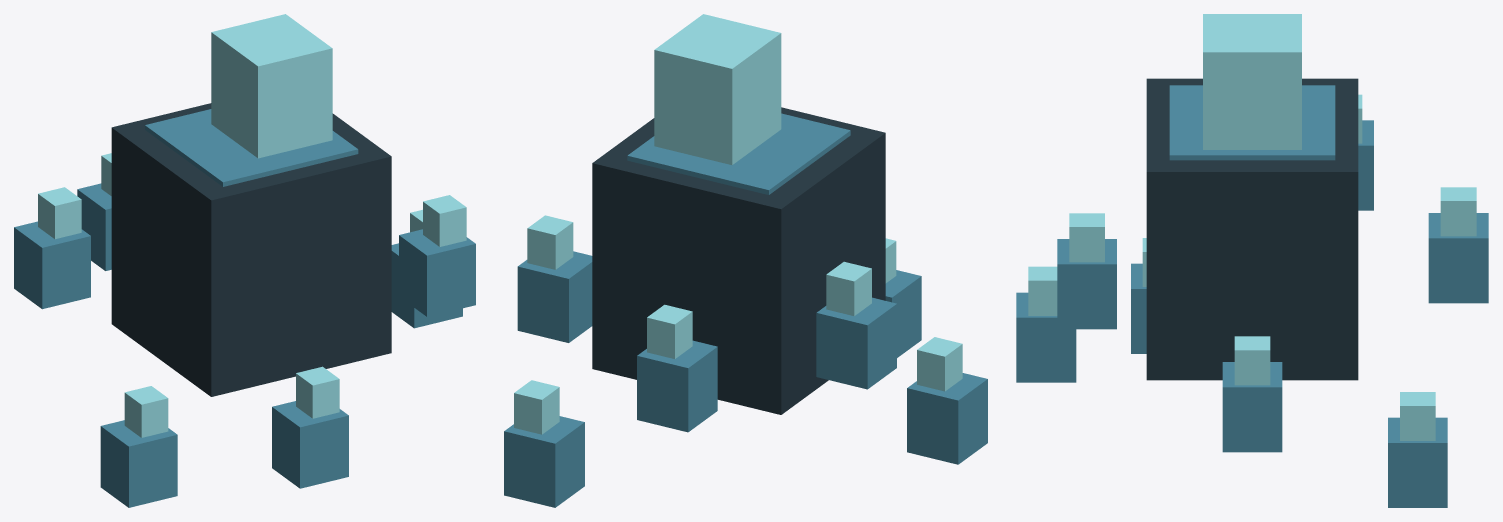
Rendered from shard-sprite.glb.
3 renders of one model, left to right at view 1: azimuth 30°, elevation 25°; view 2: azimuth 150°, elevation 25°; view 3: azimuth 270°, elevation 25°, orthographic. The views are drawn at different scales.
Visible parts, largest first — view 1: FloatingCore, CrystalBase, CrystalTip; view 2: FloatingCore, CrystalBase, CrystalTip; view 3: FloatingCore, CrystalBase, CrystalTip.
Part boxes in pixels (x1,y1,x2,y2): FloatingCore: (111,103,391,396); CrystalBase: (14,109,475,507); CrystalTip: (38,14,466,437); FloatingCore: (592,107,885,414); CrystalBase: (504,113,987,507); CrystalTip: (514,14,962,434); FloatingCore: (1146,78,1358,380); CrystalBase: (1016,85,1488,507); CrystalTip: (1028,14,1476,440).
Bounding box in the file's own units: 5.02 × 5 × 5.13.
